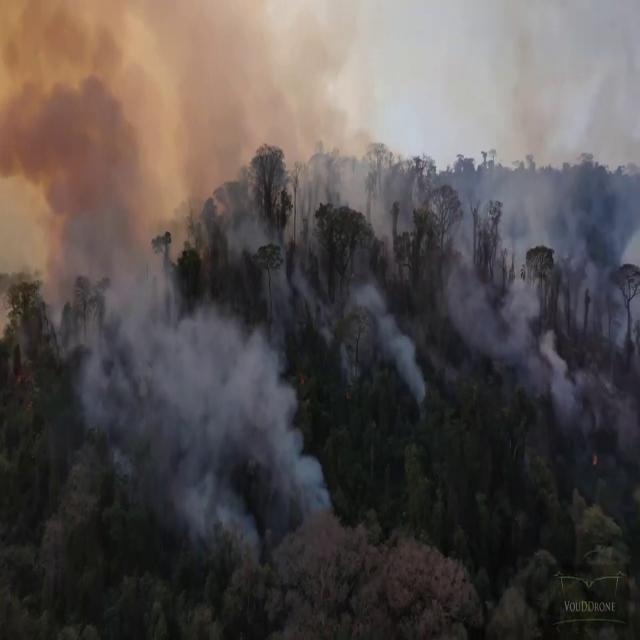Fire: (172, 0, 260, 58)
Smoke: (322, 1, 420, 272), (0, 76, 146, 206), (122, 6, 192, 220), (325, 273, 430, 403), (270, 378, 332, 516), (172, 480, 260, 568), (512, 30, 562, 158), (62, 192, 124, 278)
